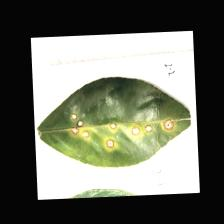canker: (50, 90, 185, 154)
